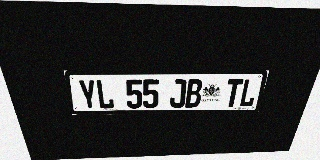5: (126, 79, 143, 109), (143, 79, 159, 108)
B: (185, 79, 203, 108)
J: (169, 79, 187, 108)
L: (95, 79, 115, 109), (238, 79, 259, 107)
T: (224, 79, 244, 107)
Y: (77, 80, 98, 109)
